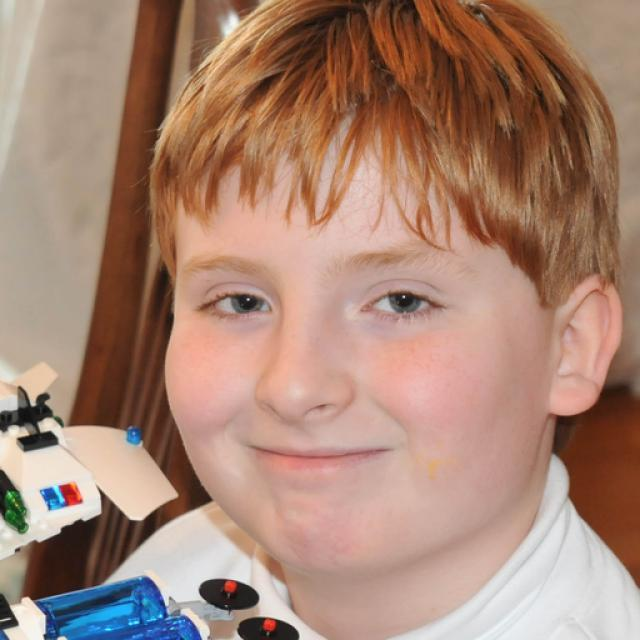happy: (161, 122, 551, 572)
